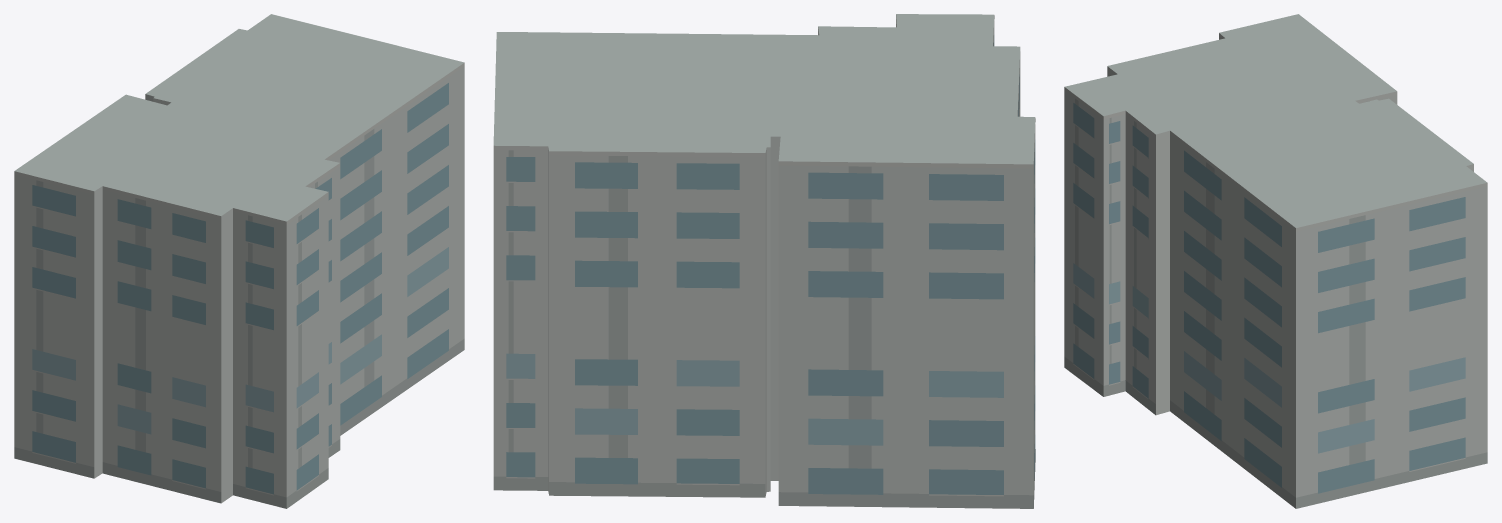
The model's file is survey-upis-32840901.glb.
The picture shows the model from 3 angles, left to right: view 1: azimuth 30°, elevation 25°; view 2: azimuth 150°, elevation 25°; view 3: azimuth 270°, elevation 25°; orthographic projection. The views are drawn at different scales.
Visible parts, largest first — view 1: survey-upis-32840901.tmp; view 2: survey-upis-32840901.tmp; view 3: survey-upis-32840901.tmp.
Boxes of the visible parts, x1,y1,x2,y2 form: survey-upis-32840901.tmp: (14, 14, 464, 508); survey-upis-32840901.tmp: (493, 14, 1035, 508); survey-upis-32840901.tmp: (1064, 14, 1487, 508).
Size of the model in its own units: 32.56 by 19.9 by 27.2.
